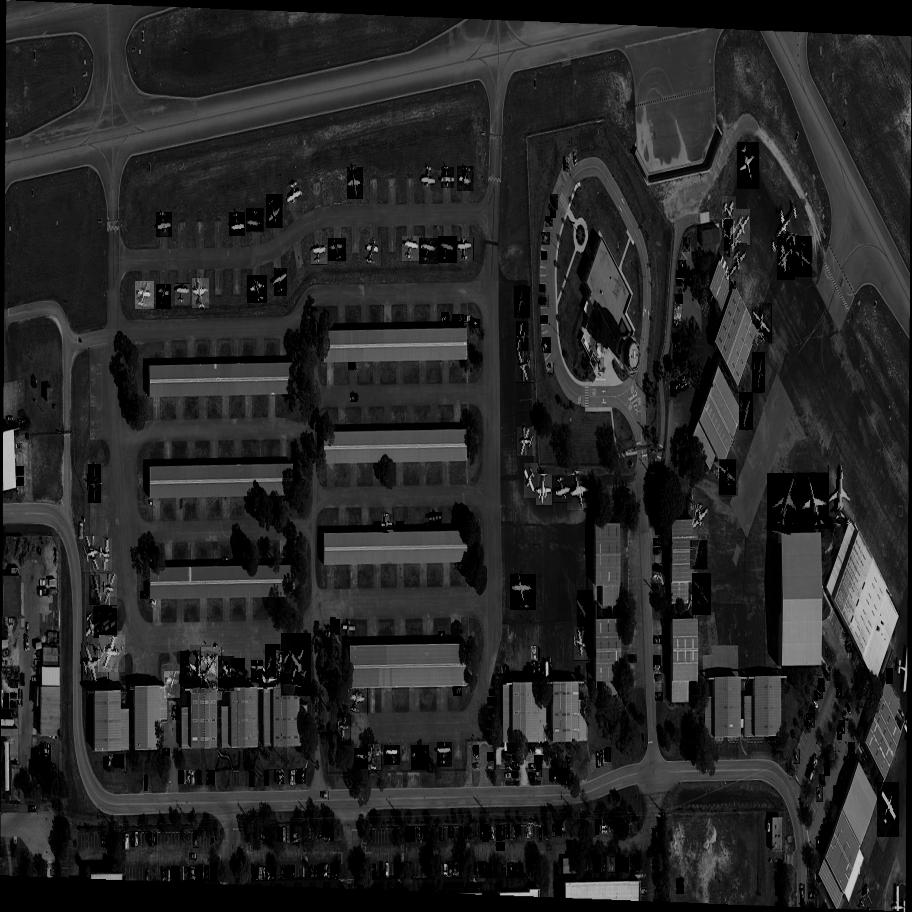plane: (276, 634, 320, 696), (768, 469, 808, 536), (869, 782, 909, 837), (797, 473, 834, 531), (180, 645, 223, 693), (773, 197, 802, 252), (743, 303, 780, 345), (194, 647, 229, 689), (685, 573, 719, 615), (734, 142, 763, 189), (829, 465, 852, 523), (81, 643, 111, 686), (710, 460, 746, 495), (685, 498, 719, 535), (723, 245, 754, 281), (99, 635, 127, 674), (775, 235, 799, 280), (511, 571, 537, 612), (567, 470, 592, 511), (572, 590, 599, 627), (213, 656, 241, 691), (729, 210, 756, 246), (260, 645, 287, 679), (82, 536, 105, 575), (90, 606, 116, 639), (520, 463, 543, 499), (794, 236, 812, 277), (265, 194, 286, 228), (738, 392, 756, 429), (720, 196, 739, 231), (85, 608, 103, 643), (99, 574, 118, 607), (247, 275, 268, 304), (135, 281, 156, 310), (518, 426, 537, 458), (515, 352, 534, 384), (180, 651, 197, 685), (192, 278, 210, 310), (349, 688, 370, 715), (752, 352, 766, 392), (553, 476, 573, 504), (419, 238, 440, 264), (515, 285, 531, 319), (691, 539, 708, 571), (438, 236, 458, 263), (365, 239, 384, 267), (348, 166, 364, 199), (574, 626, 589, 661), (401, 237, 421, 263), (98, 538, 113, 572), (411, 746, 431, 771), (246, 208, 265, 234), (277, 651, 290, 688), (337, 714, 352, 746), (89, 464, 101, 503), (89, 574, 104, 605), (165, 672, 182, 699), (537, 475, 552, 505), (156, 284, 174, 309), (329, 238, 347, 263), (457, 166, 475, 191), (288, 179, 302, 211), (156, 213, 173, 238), (230, 211, 246, 237), (421, 167, 438, 191), (458, 237, 474, 262), (385, 743, 401, 767), (104, 609, 118, 636), (725, 219, 735, 256), (517, 322, 529, 352), (437, 743, 452, 767), (175, 284, 191, 306), (274, 269, 287, 296), (232, 658, 245, 684), (311, 245, 327, 266), (354, 748, 369, 769), (342, 619, 356, 641), (369, 745, 381, 770), (441, 168, 454, 188), (429, 512, 442, 530), (252, 661, 263, 682), (383, 514, 393, 531)
ship: (453, 314, 465, 327)
small-vehicle: (653, 828, 662, 853), (540, 337, 554, 353), (728, 270, 739, 289), (831, 786, 844, 802), (291, 825, 301, 845), (675, 879, 687, 895), (548, 194, 560, 210), (593, 854, 603, 873), (847, 742, 857, 761), (821, 667, 833, 682), (805, 713, 817, 728), (681, 237, 692, 253), (844, 701, 854, 718), (802, 719, 814, 733), (287, 826, 296, 844), (210, 863, 218, 883), (885, 668, 895, 684), (821, 763, 833, 776), (540, 232, 552, 245), (440, 313, 453, 325), (106, 756, 115, 773), (482, 825, 491, 842), (548, 203, 558, 218), (792, 749, 802, 764), (295, 827, 304, 843), (538, 296, 550, 308), (816, 678, 827, 691), (542, 216, 555, 227), (819, 825, 830, 838), (837, 720, 847, 734), (814, 837, 824, 851), (42, 743, 50, 760), (562, 769, 570, 786), (171, 705, 180, 720), (608, 858, 617, 873), (652, 563, 663, 575), (533, 753, 545, 764), (817, 774, 827, 787), (261, 829, 269, 845), (326, 825, 334, 841), (173, 866, 181, 882), (194, 830, 201, 848), (674, 303, 685, 314), (196, 771, 204, 786), (291, 771, 299, 786), (677, 261, 687, 273), (835, 683, 843, 698), (597, 357, 605, 372), (800, 884, 806, 904), (510, 862, 518, 877), (556, 768, 564, 783), (532, 646, 540, 661), (532, 662, 540, 677), (194, 866, 201, 883), (615, 857, 622, 874), (816, 686, 825, 699), (838, 776, 847, 789), (24, 634, 30, 653), (249, 771, 256, 787), (671, 381, 678, 397), (187, 868, 194, 884), (815, 787, 823, 801), (464, 826, 472, 840), (409, 826, 416, 842), (405, 826, 412, 842), (496, 825, 503, 841), (525, 825, 532, 841), (9, 700, 20, 710), (673, 311, 684, 321), (653, 674, 664, 684), (546, 363, 556, 374), (572, 150, 578, 168), (179, 770, 186, 785), (277, 827, 284, 842), (320, 825, 327, 840), (190, 866, 197, 881), (204, 866, 211, 881), (280, 865, 287, 880), (680, 376, 687, 391), (836, 725, 843, 740), (608, 819, 615, 834), (454, 862, 461, 877), (514, 863, 521, 878), (330, 617, 337, 632), (567, 758, 574, 773), (264, 770, 270, 787), (653, 547, 663, 557), (653, 538, 663, 548), (455, 562, 465, 572), (453, 686, 463, 696), (186, 770, 193, 784), (269, 867, 276, 881), (283, 867, 290, 881), (478, 861, 485, 875), (501, 864, 508, 878), (503, 666, 510, 680), (395, 861, 401, 877), (335, 619, 341, 635), (552, 821, 558, 837), (323, 864, 330, 877), (262, 866, 269, 879), (19, 673, 26, 686), (686, 372, 693, 385), (602, 750, 609, 763), (634, 859, 641, 872), (447, 862, 454, 875), (549, 769, 556, 782), (528, 823, 535, 836), (162, 747, 171, 757), (120, 754, 126, 769), (131, 832, 137, 847), (324, 826, 330, 841), (259, 829, 265, 844), (302, 769, 308, 784), (628, 655, 638, 664), (621, 856, 627, 871), (845, 757, 851, 772), (540, 315, 549, 325), (518, 863, 524, 878), (481, 825, 487, 840), (493, 826, 499, 841), (497, 842, 506, 852), (528, 746, 537, 756), (675, 270, 686, 278), (123, 754, 128, 771), (79, 522, 84, 539), (209, 770, 215, 784), (114, 754, 120, 768), (298, 770, 304, 784), (257, 865, 263, 879), (439, 826, 445, 840), (500, 826, 506, 840), (2, 709, 11, 718), (535, 747, 544, 756), (379, 861, 384, 877), (537, 663, 542, 679), (556, 820, 561, 836), (277, 771, 283, 784), (103, 757, 109, 770), (309, 866, 315, 879), (313, 866, 319, 879), (320, 865, 326, 878), (254, 868, 260, 881), (260, 867, 266, 880), (171, 868, 177, 881), (562, 820, 568, 833), (448, 826, 455, 837), (206, 770, 211, 785), (267, 865, 272, 880), (606, 748, 611, 763), (509, 863, 514, 878), (554, 765, 559, 780), (317, 865, 323, 877), (673, 319, 681, 328), (655, 527, 664, 535), (459, 827, 465, 839), (475, 863, 481, 875), (396, 521, 405, 529), (488, 697, 496, 706), (190, 771, 195, 785), (31, 748, 36, 762), (35, 748, 40, 762), (295, 770, 300, 784), (327, 864, 332, 878), (331, 864, 336, 878), (198, 866, 203, 880), (375, 521, 382, 531), (138, 833, 143, 846), (675, 380, 680, 393), (632, 859, 637, 872), (162, 868, 167, 881), (485, 864, 490, 877), (598, 819, 603, 832), (16, 467, 24, 475), (40, 579, 48, 587), (831, 744, 835, 760), (653, 574, 661, 582), (512, 762, 520, 770), (672, 334, 679, 343), (676, 295, 683, 304), (654, 635, 661, 644), (553, 881, 560, 890), (473, 319, 480, 328), (487, 752, 494, 761), (122, 834, 126, 849), (126, 835, 130, 850), (148, 833, 153, 845), (613, 856, 617, 871), (563, 157, 567, 172), (597, 343, 601, 358), (507, 824, 511, 839), (141, 591, 148, 599), (289, 770, 293, 784), (267, 829, 271, 843), (321, 792, 328, 800), (189, 854, 197, 861), (17, 478, 24, 486), (654, 665, 662, 672), (629, 859, 633, 873), (473, 753, 480, 761), (348, 363, 356, 370), (463, 315, 471, 322), (438, 633, 445, 641), (491, 825, 495, 839), (541, 251, 547, 260), (351, 393, 357, 402), (251, 864, 254, 881), (10, 710, 17, 717), (2, 693, 9, 700), (28, 805, 35, 812), (655, 693, 662, 700), (235, 555, 241, 563), (3, 700, 9, 708), (18, 690, 21, 706), (597, 752, 600, 768), (654, 656, 660, 664), (146, 870, 150, 882), (483, 862, 487, 874), (549, 658, 552, 674), (559, 820, 562, 836), (529, 773, 535, 781), (286, 827, 289, 842), (386, 863, 389, 878), (603, 856, 606, 871), (595, 820, 598, 835), (843, 709, 847, 720), (184, 770, 187, 784), (222, 558, 229, 564), (10, 693, 17, 699), (276, 770, 279, 784), (42, 744, 45, 758), (135, 832, 138, 846), (283, 828, 286, 842), (32, 677, 38, 684), (626, 858, 629, 872), (473, 746, 479, 753), (512, 772, 519, 778), (540, 284, 545, 292), (489, 761, 494, 769), (292, 866, 295, 879), (203, 866, 206, 879), (607, 857, 610, 870), (168, 869, 171, 882), (488, 826, 491, 839), (150, 601, 156, 607), (38, 745, 41, 757), (7, 416, 13, 422), (676, 280, 682, 286), (473, 763, 479, 769), (536, 763, 542, 769), (489, 690, 495, 696), (16, 444, 21, 451), (518, 824, 521, 835), (145, 775, 147, 791), (490, 861, 492, 877), (49, 744, 51, 759), (373, 865, 375, 880), (640, 888, 645, 894), (50, 869, 55, 875), (815, 691, 818, 701), (809, 892, 814, 898), (605, 820, 607, 835), (441, 865, 444, 875), (422, 827, 424, 842), (505, 774, 511, 779), (505, 763, 510, 769), (530, 764, 536, 769), (281, 769, 283, 783), (601, 752, 603, 766), (514, 826, 516, 840), (102, 833, 104, 846), (154, 832, 156, 845), (334, 865, 336, 878), (686, 375, 688, 388), (460, 862, 462, 875), (540, 826, 542, 839), (536, 771, 541, 776), (290, 867, 292, 879), (679, 377, 681, 389), (674, 343, 678, 349), (417, 828, 419, 840), (337, 864, 339, 875), (469, 826, 471, 837), (444, 865, 446, 875), (421, 827, 422, 843), (506, 862, 507, 876), (603, 818, 603, 834)
